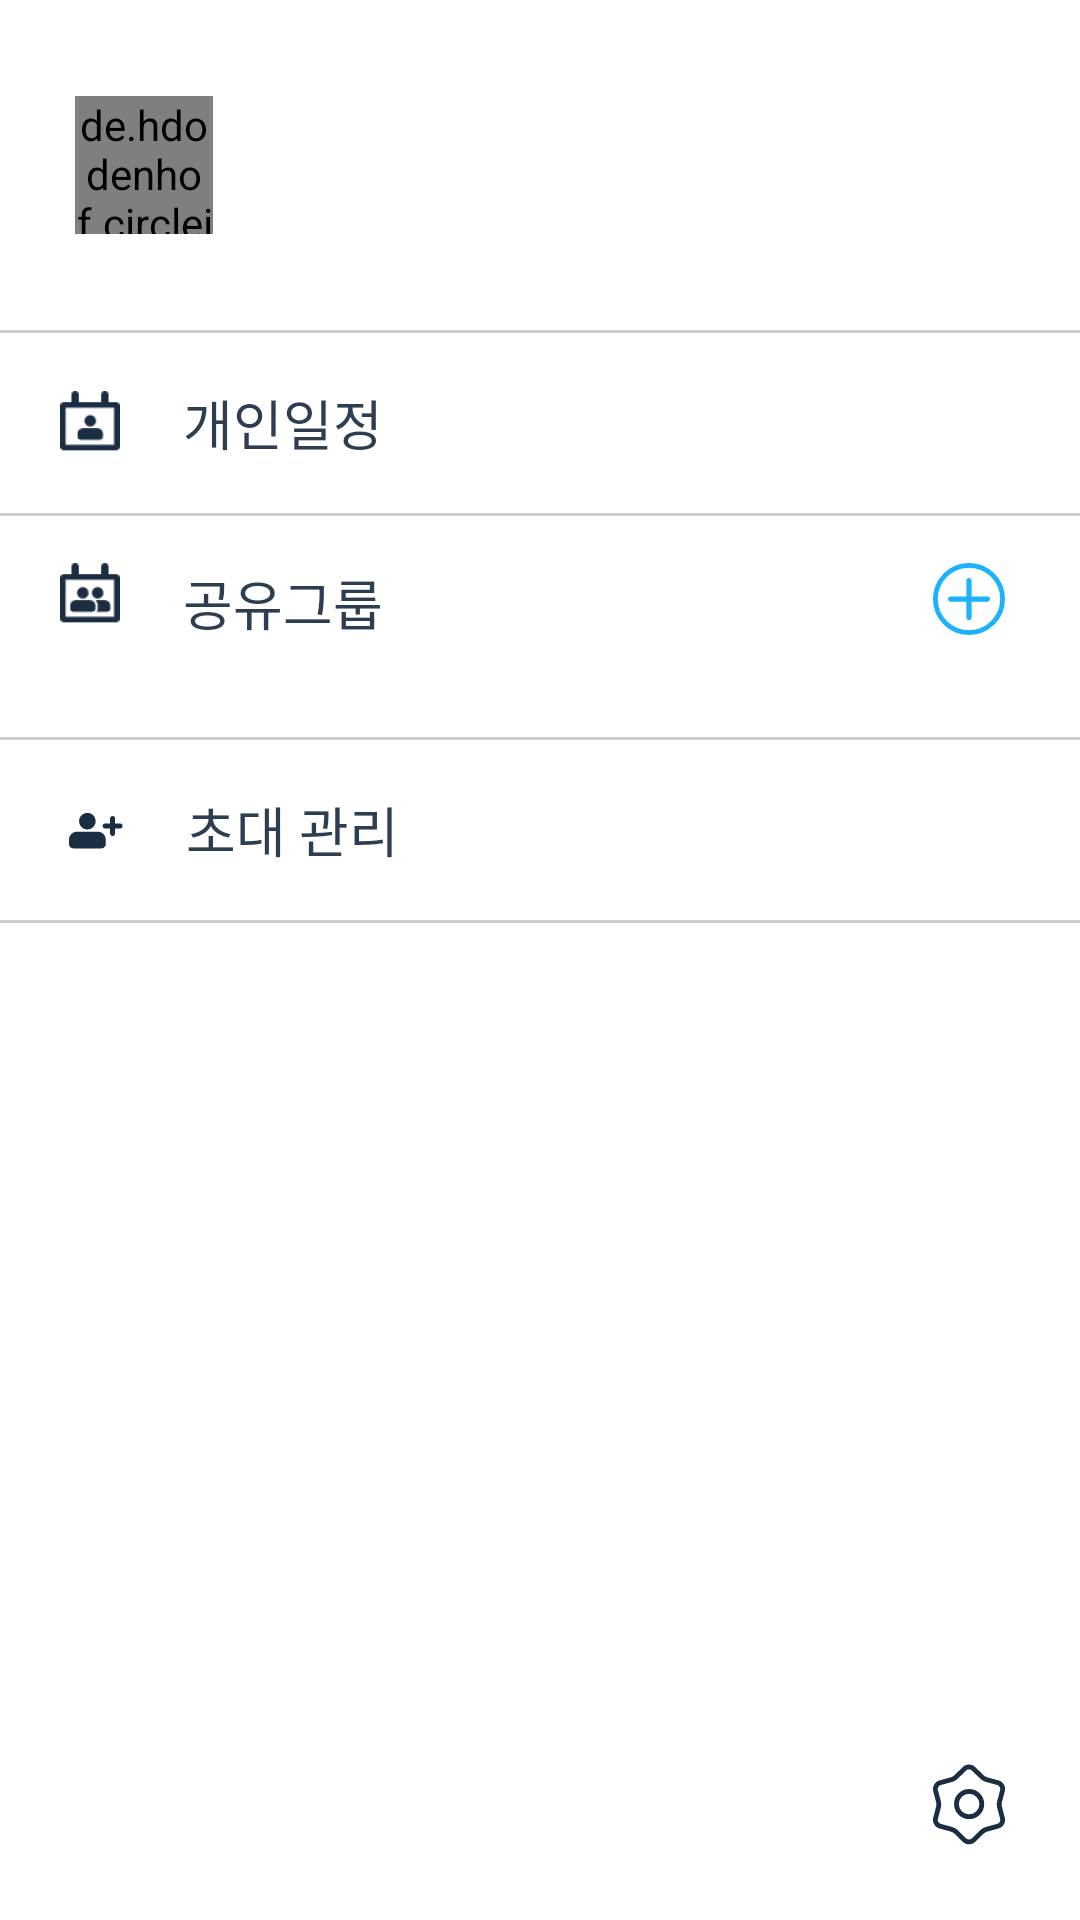

Where icons sit on this 1080w x 1920h app screen, as (left=x1, top=y1, right=x2, bottom=y2):
add invitation: (left=69, top=813, right=123, bottom=849)
add schedule: (left=933, top=563, right=1005, bottom=635)
personal schedule: (left=60, top=391, right=120, bottom=451)
setting: (left=933, top=1764, right=1005, bottom=1845)
shared schedule: (left=60, top=563, right=120, bottom=623)
